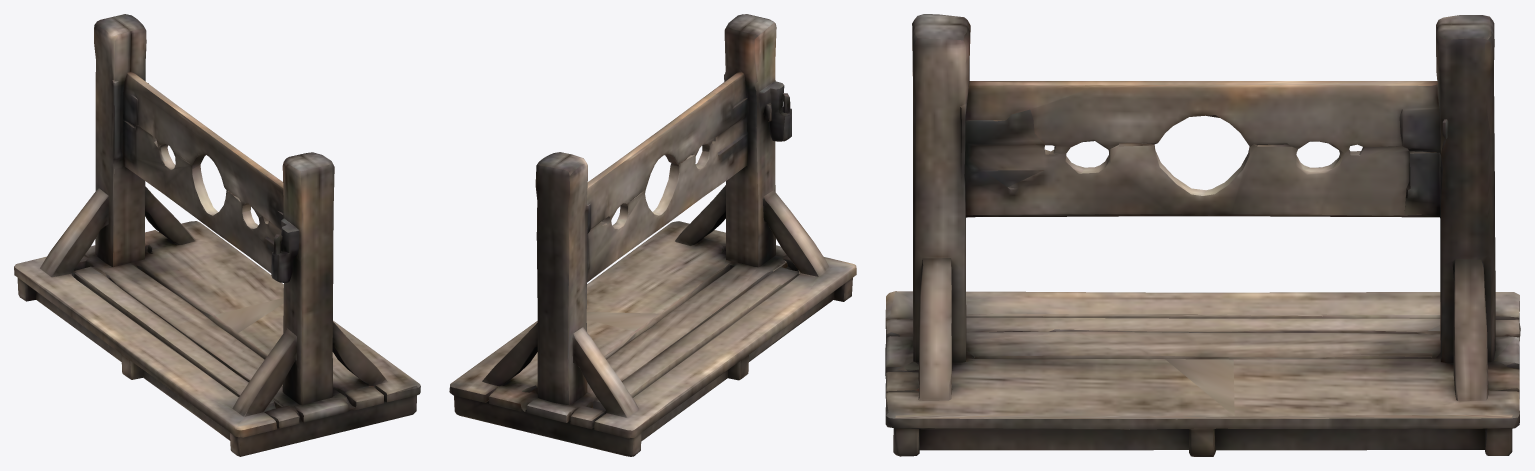
Rendered from prop-stocks.glb.
3 views of the same model, side by side, from view 1: azimuth 30°, elevation 25°; view 2: azimuth 150°, elevation 25°; view 3: azimuth 270°, elevation 25° (orthographic). The views are drawn at different scales.
Visible parts, largest first — view 1: prop-stocks; view 2: prop-stocks; view 3: prop-stocks.
Boxes of the visible parts, x1=… form: prop-stocks: x1=14, y1=14, x2=420, y2=456; prop-stocks: x1=449, y1=14, x2=856, y2=456; prop-stocks: x1=885, y1=14, x2=1520, y2=456.
Size of the model in its own units: 1.22 by 1.67 by 2.59.
1 material, 1 textured.
